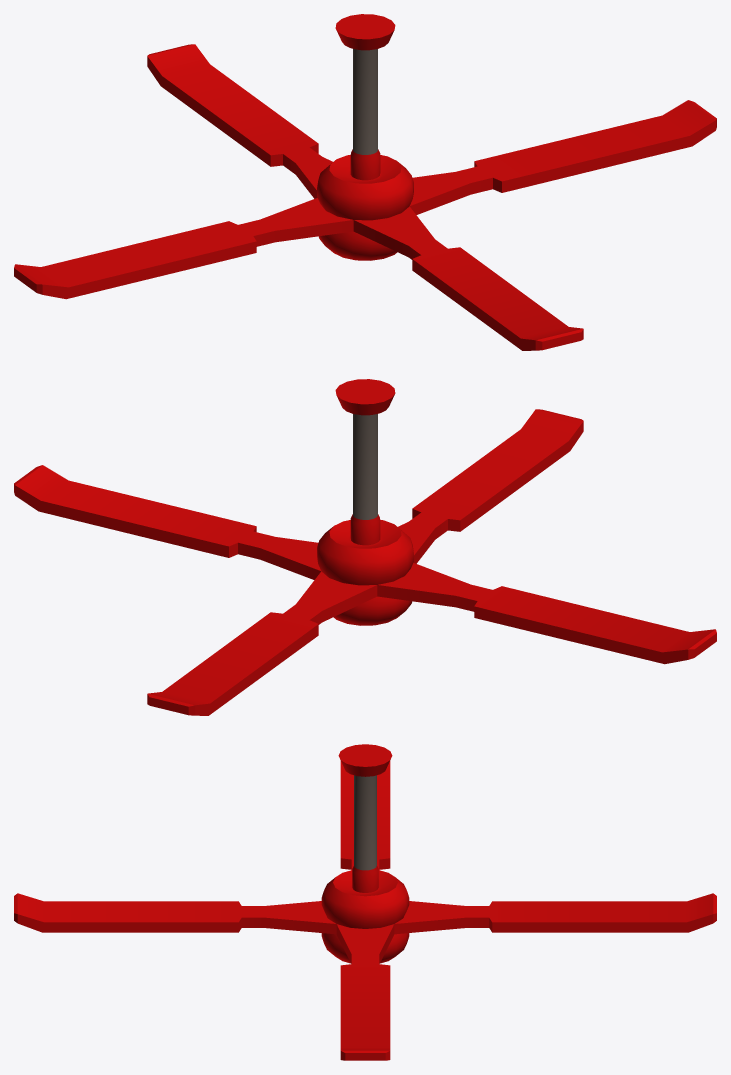
The model's file is fan12.glb.
The picture shows the model from 3 angles, top to bottom: view 1: azimuth 30°, elevation 25°; view 2: azimuth 150°, elevation 25°; view 3: azimuth 270°, elevation 25°; orthographic projection. The views are drawn at different scales.
Parts seen in each view (by area): view 1: Fan12_Tris; view 2: Fan12_Tris; view 3: Fan12_Tris.
Part boxes in pixels (bbox=[...]): Fan12_Tris: bbox=[14, 14, 716, 350]; Fan12_Tris: bbox=[14, 379, 716, 715]; Fan12_Tris: bbox=[14, 744, 716, 1060].
Bounding box in the file's own units: 4.93 × 1.58 × 4.93.
